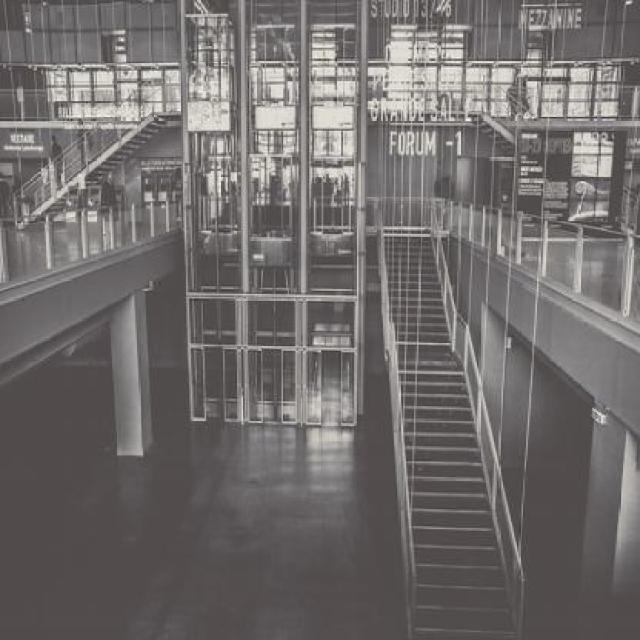stair: (366, 190, 517, 624)
